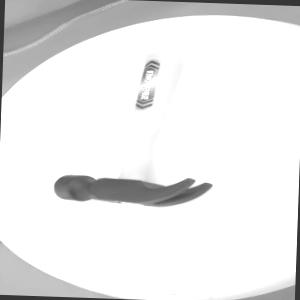martelo: (54, 47, 218, 208)
